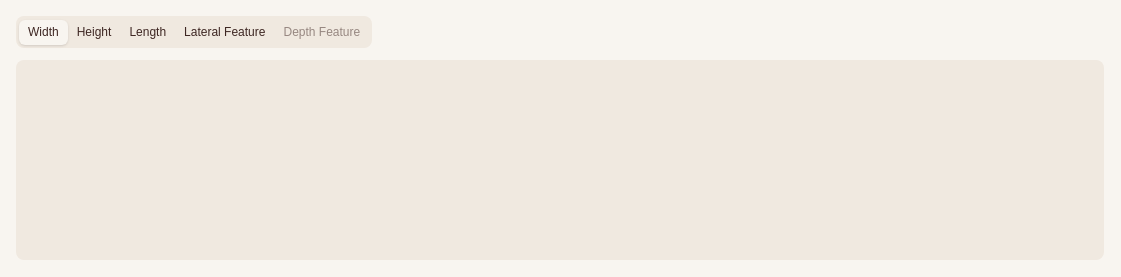
Test: AggregateBoxPlotChart › disabled depth tab (AC-3.17.6) › shows tooltip on disabled depth tab hover
// Hover over the disabled depth tab
Hover over the element showing "Depth Feature" at [322, 32], box [274,19,369,45]
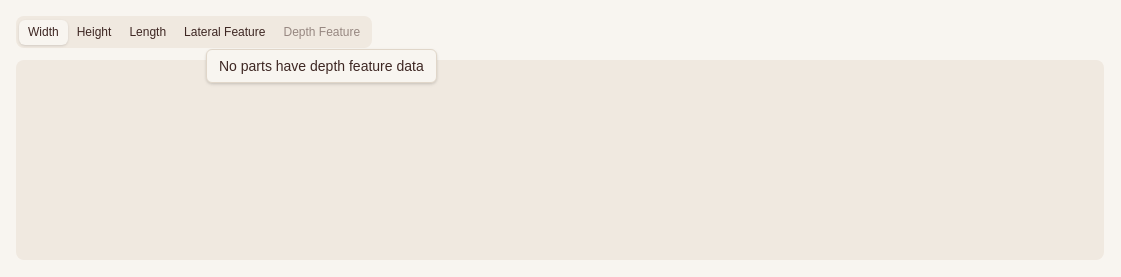
Expected: the tooltip "No parts have depth feature data" is shown, [206,49,437,83]
